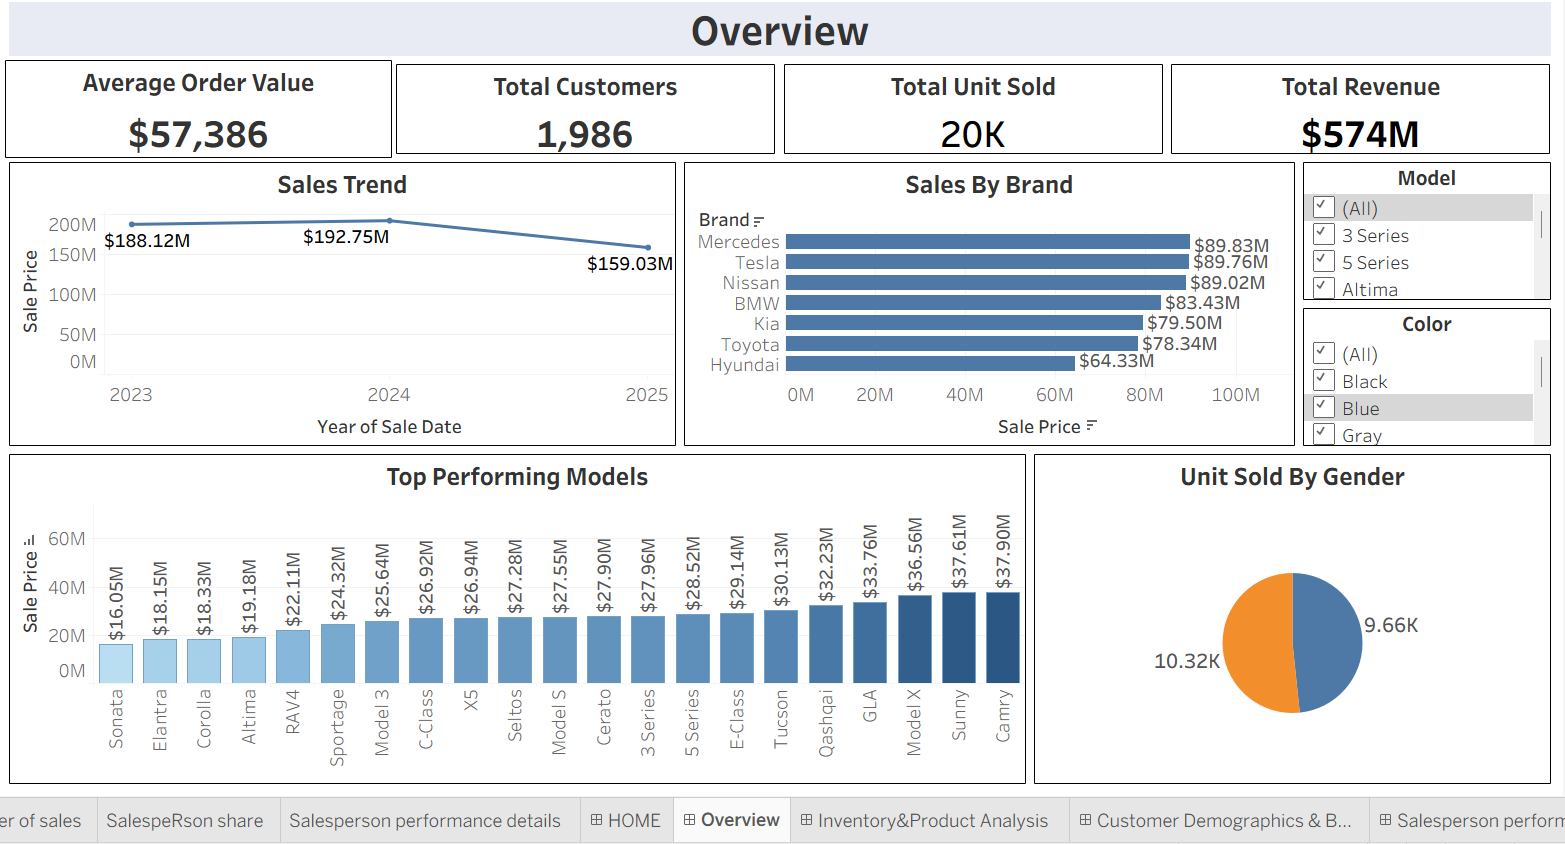

The page's visual inventory and layout, read from the dashboard file:
{"tool":"tableau","page":{"name":"Overview","canvas":[1566,806],"ordinal":3},"visuals":[{"type":"title","box":[8,8,1550,62]},{"type":"worksheet","title":"Average order value","mark":"Automatic","box":[8,70,387.5,98]},{"type":"worksheet","title":"Total customers","mark":"Automatic","box":[395.5,70,387.5,98]},{"type":"worksheet","title":"Total unit sold","mark":"Automatic","box":[783,70,387.5,98]},{"type":"worksheet","title":"Total revenue (overview)","mark":"Automatic","box":[1170.5,70,387.5,98]},{"type":"worksheet","title":"Sales Trend","mark":"Automatic","rows":["Sale_Price"],"cols":["Sale_Date"],"box":[8,168,675,292]},{"type":"worksheet","title":"Sales by brand","mark":"Automatic","rows":["Brand"],"cols":["Sale_Price"],"box":[683,168,619,292]},{"type":"filter","title":"Top performing models","param":"[federated.1b1klsr0mw01x615c70iu1gsuma9].[none:Model:nk]","box":[1302,168,256,146]},{"type":"filter","title":"Top performing models","param":"[federated.1b1klsr0mw01x615c70iu1gsuma9].[none:Color:nk]","box":[1302,314,256,146]},{"type":"worksheet","title":"Top performing models","mark":"Automatic","rows":["Sale_Price"],"cols":["Model"],"box":[8,460,1025,338]},{"type":"worksheet","title":"Unit Sold By Gender","mark":"Pie","box":[1033,460,525,338]}]}

Visuals, with their boxes on the page's 1566x806 design canvas (x1, y1, x2, y2). These are canvas units, not pixel positions in the 1565x844 screenshot, which may show the page scaled, cropped or inside an application window:
title: <box>8,8,1558,70</box>
"Average order value" worksheet: <box>8,70,396,168</box>
"Total customers" worksheet: <box>396,70,783,168</box>
"Total unit sold" worksheet: <box>783,70,1170,168</box>
"Total revenue (overview)" worksheet: <box>1170,70,1558,168</box>
"Sales Trend" worksheet: <box>8,168,683,460</box>
"Sales by brand" worksheet: <box>683,168,1302,460</box>
"Top performing models" filter: <box>1302,168,1558,314</box>
"Top performing models" filter: <box>1302,314,1558,460</box>
"Top performing models" worksheet: <box>8,460,1033,798</box>
"Unit Sold By Gender" worksheet (Pie marks): <box>1033,460,1558,798</box>
